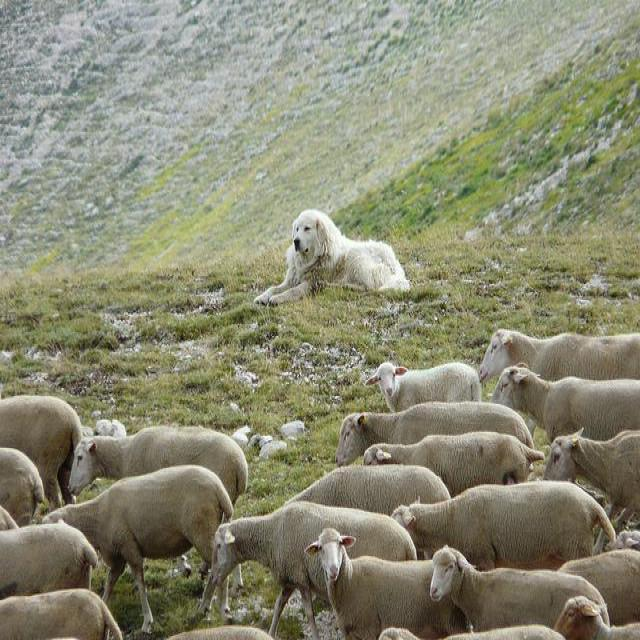Sheep: (0, 394, 639, 638), (38, 470, 235, 634), (210, 505, 418, 639), (392, 482, 617, 570), (426, 544, 610, 635), (307, 532, 467, 631), (329, 399, 537, 469), (69, 426, 248, 506), (489, 365, 639, 443), (366, 436, 545, 489), (284, 465, 453, 519), (478, 328, 639, 384), (1, 586, 120, 638), (363, 363, 484, 412)
